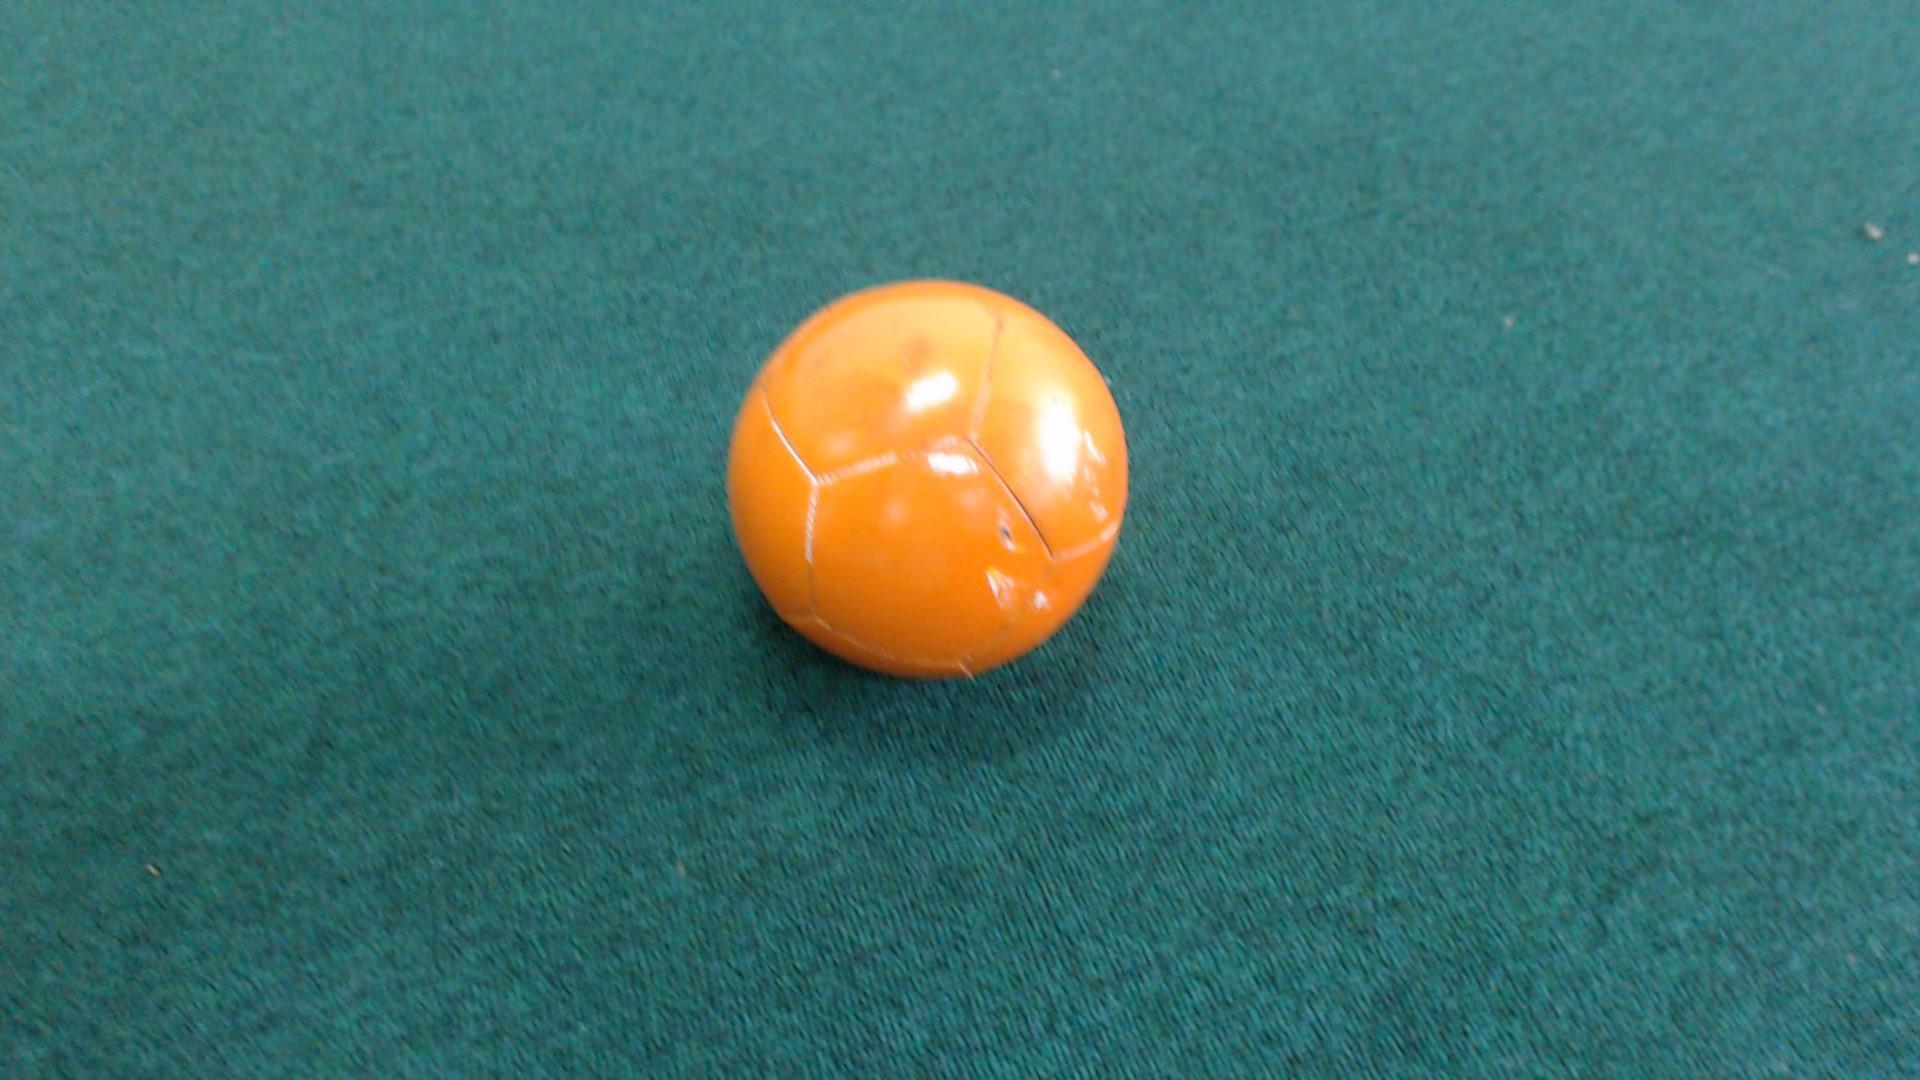bola: (663, 273, 1163, 699)
